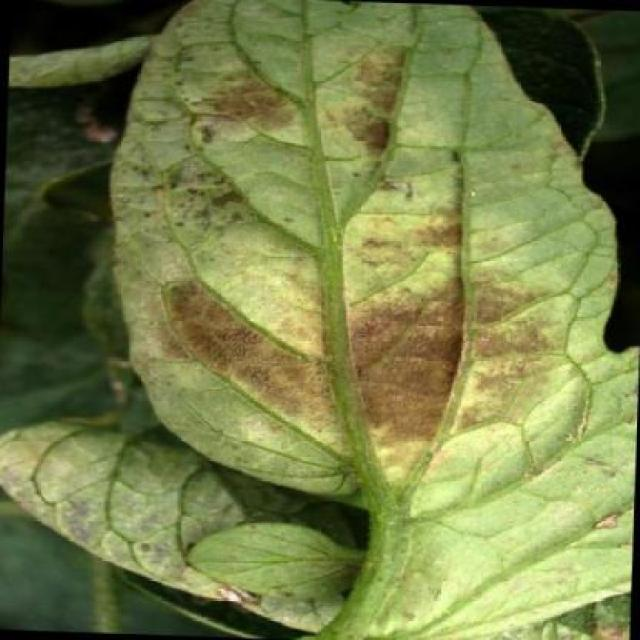Leaf Mold: (96, 1, 636, 479)
